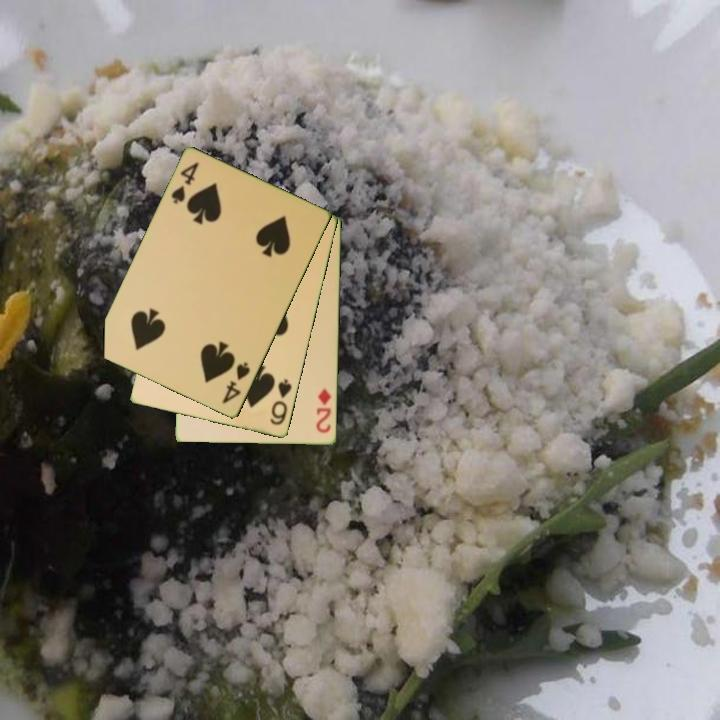2d: (313, 385, 334, 436)
4s: (218, 359, 253, 407), (167, 159, 202, 207)
6s: (267, 376, 295, 428)
